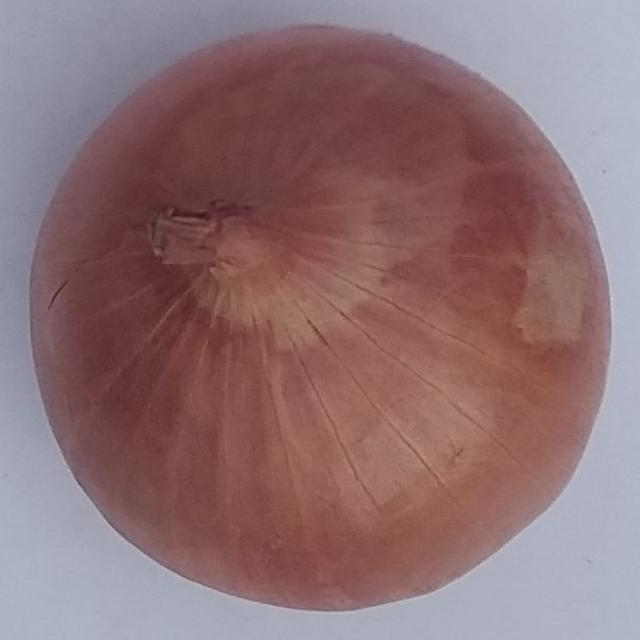onion: (29, 21, 613, 614)
